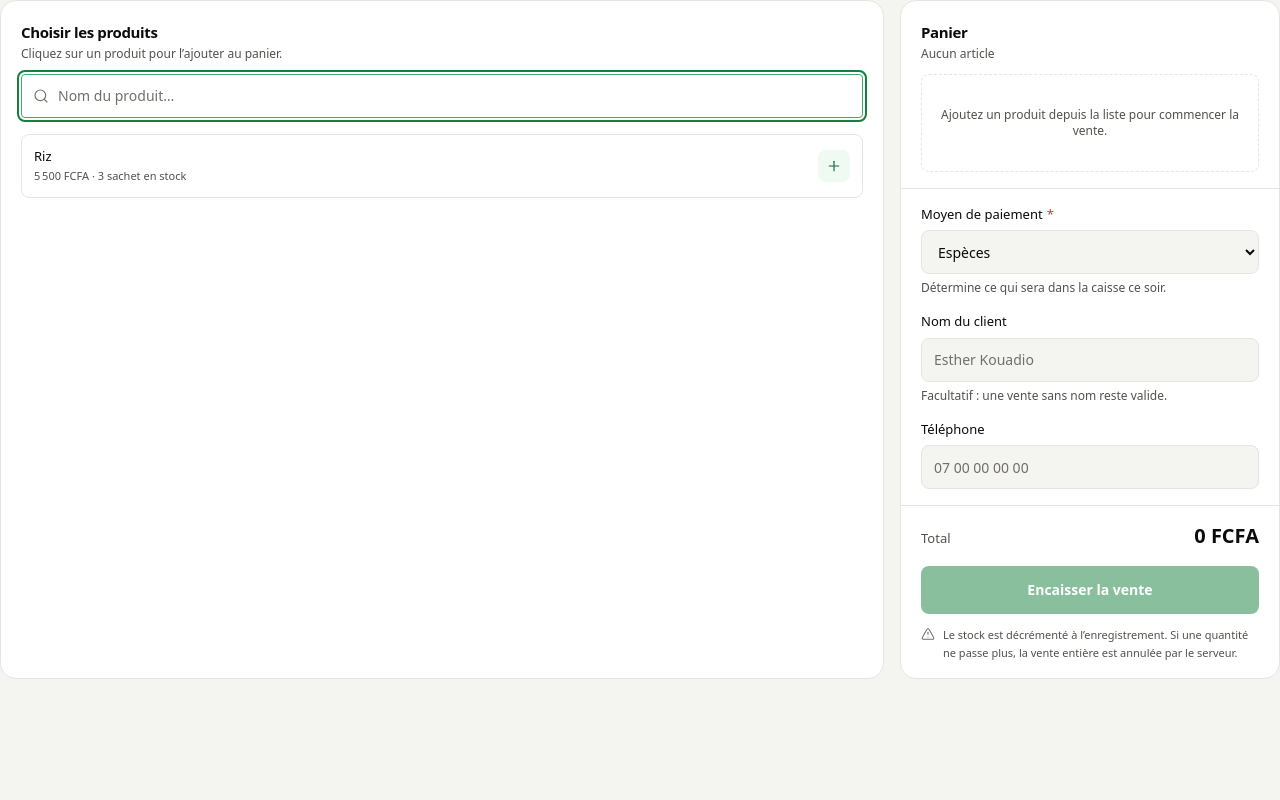
Scenario: accessibilité de la caisse › nomme le bouton de retrait par le produit concerné
The width and height of the screenshot is (1280, 800).
Step 1. Click the button "Riz 5 500 FCFA · 3 sachet en stock" → click(62, 176), box left=21, top=134, right=863, bottom=198
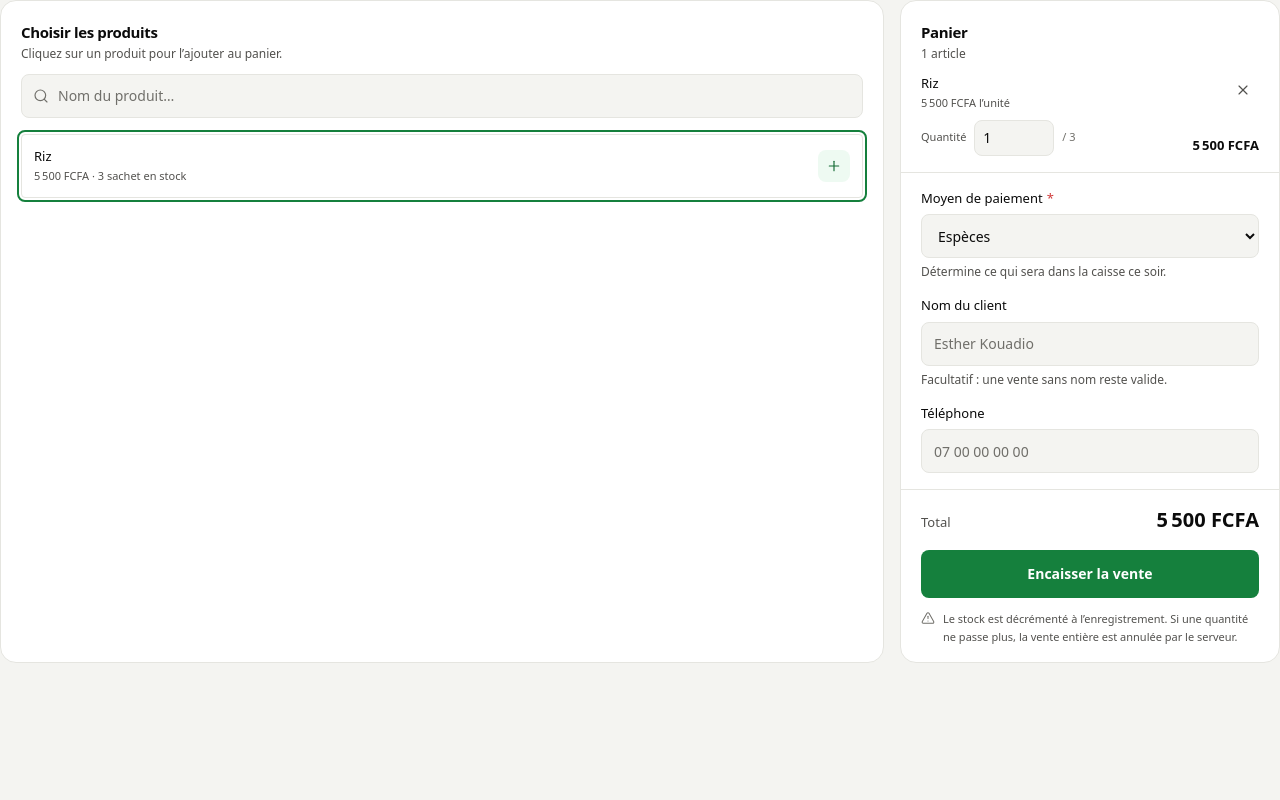
Expected: the button named "retirer riz du panier" is shown, left=1227, top=74, right=1259, bottom=106
